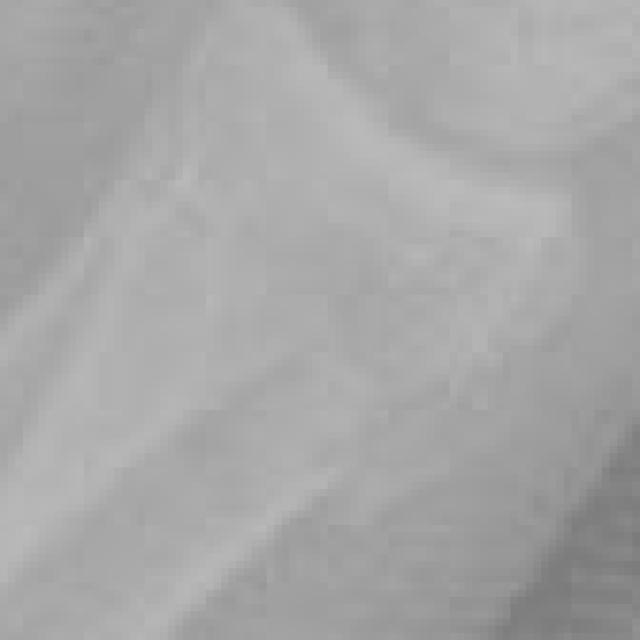fracture: (3, 0, 640, 640)
